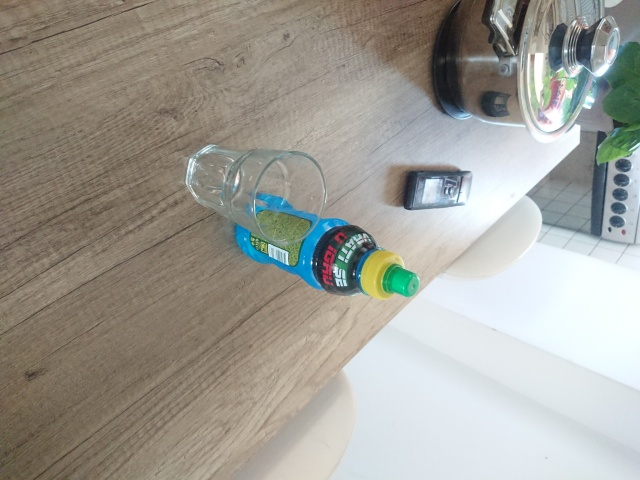Vindi Iso Sport Forest Strawberries 500mL: (233, 196, 421, 300)
